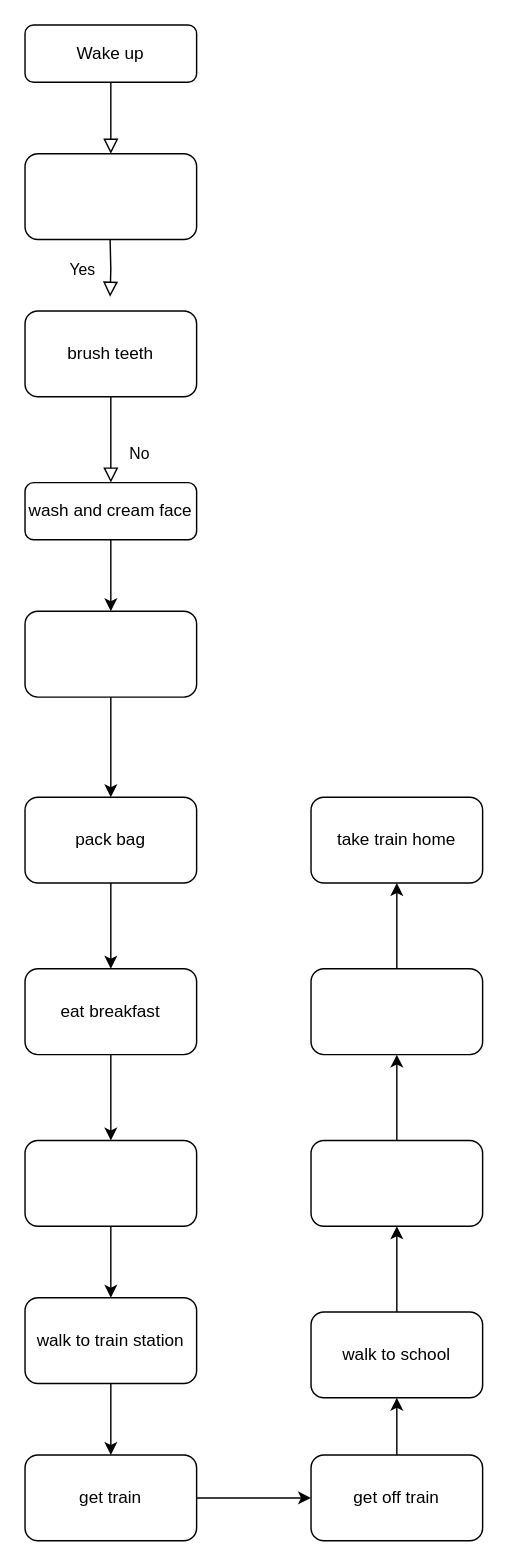
The diagram is 508 pixels wide and 1566 high, and some of its shapes have lost their labels. The box of each missing label's shape, as (x1, y1, x2, y2) in pixels:
end skl day: (310, 967, 483, 1055)
get dressesd: (24, 610, 197, 697)
go into shwer: (24, 152, 197, 240)
leave house: (24, 1139, 197, 1226)
start school day: (310, 1139, 483, 1226)
